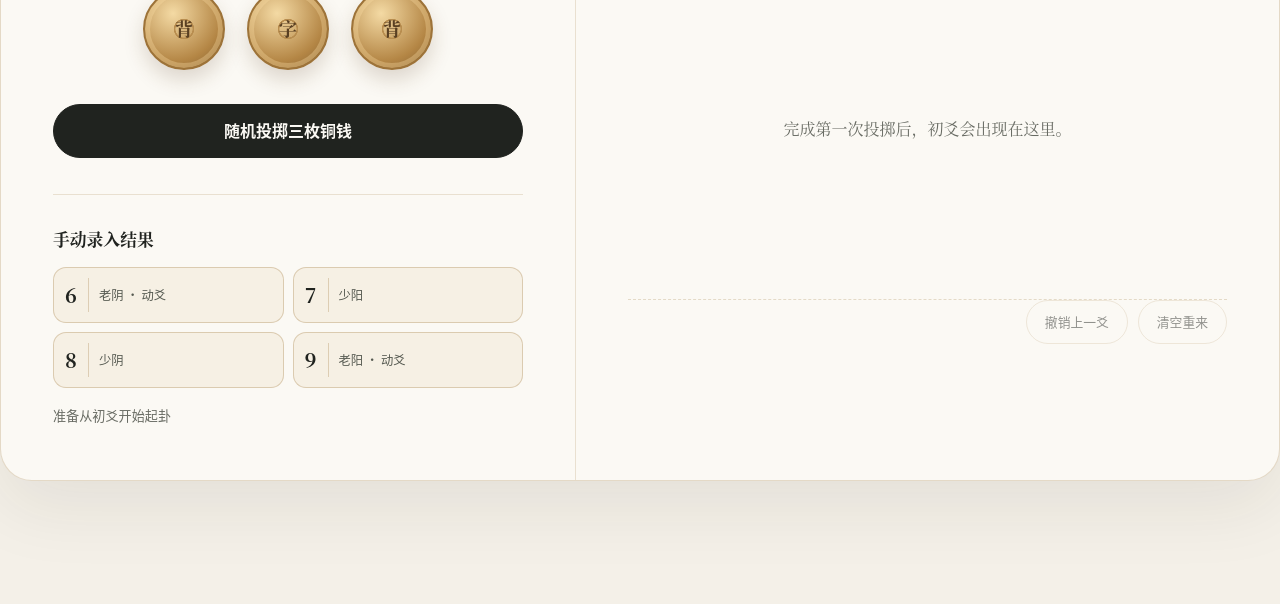
Test: CastingExperience › records six manual lines from bottom to top and completes in the same order
(page scrolled)
Click the button with aria-label "老阳 9". click: (408, 360)
box: [292, 332, 523, 388]
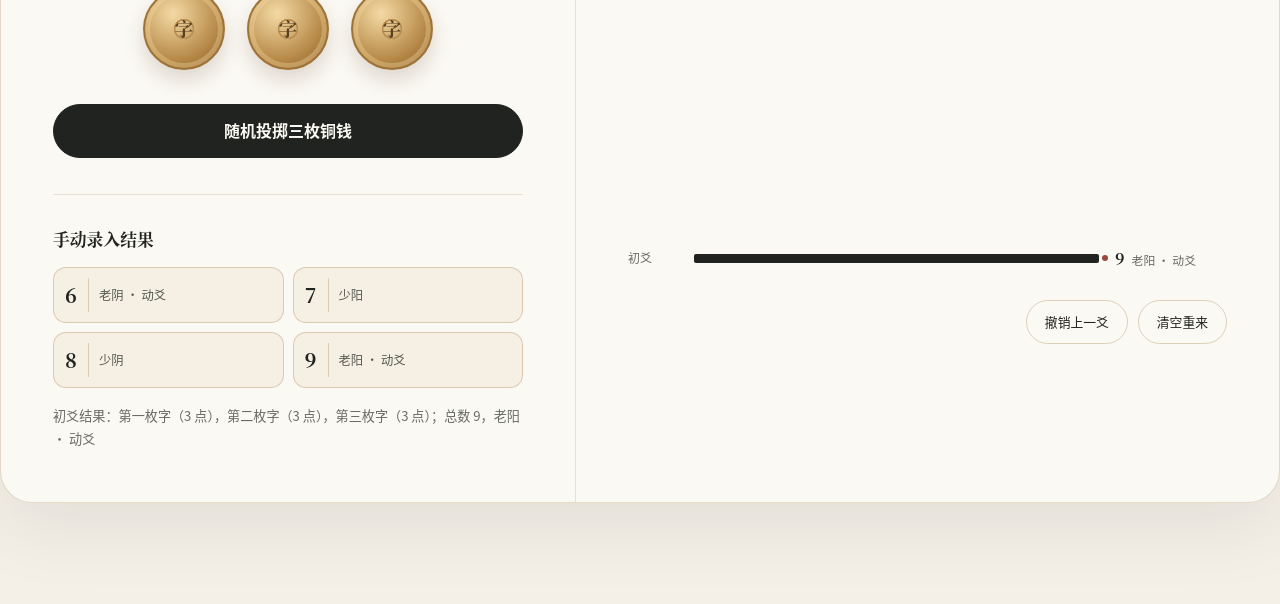
Result: the list item "初爻" is shown at [628, 249, 652, 266]
Result: the text "老阳 · 动爻" is shown at [1132, 251, 1196, 268]
Click the button "少阳 7". click: (408, 295)
box: [292, 267, 523, 323]
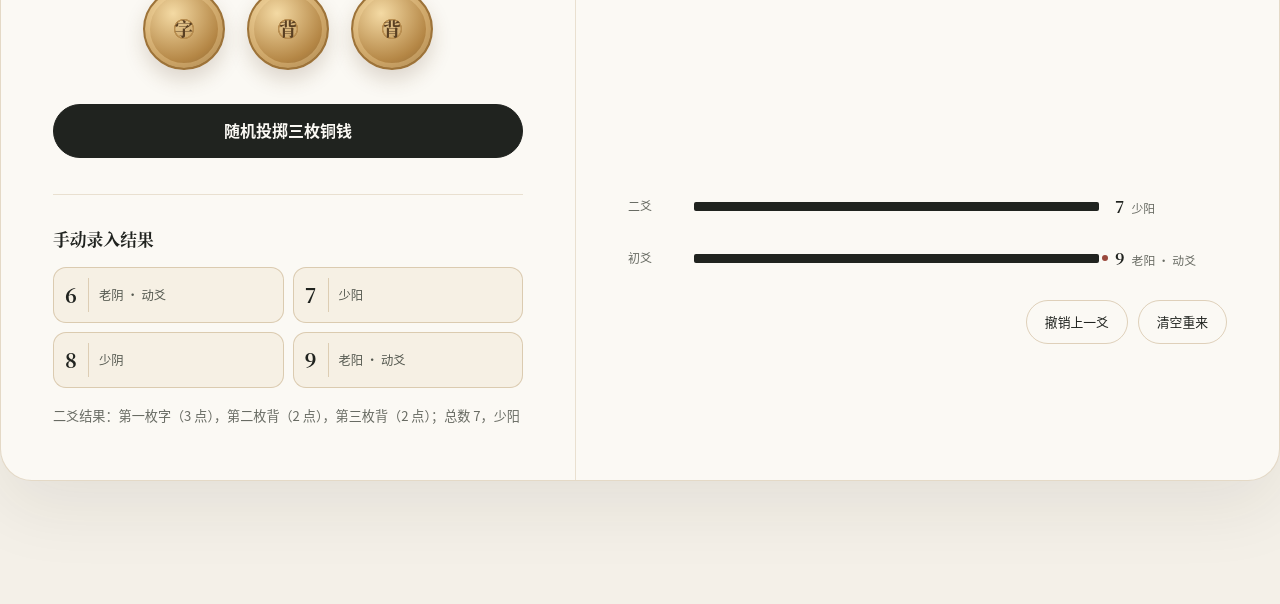
Click the button "少阳 7". click: (408, 295)
box: [292, 267, 523, 323]
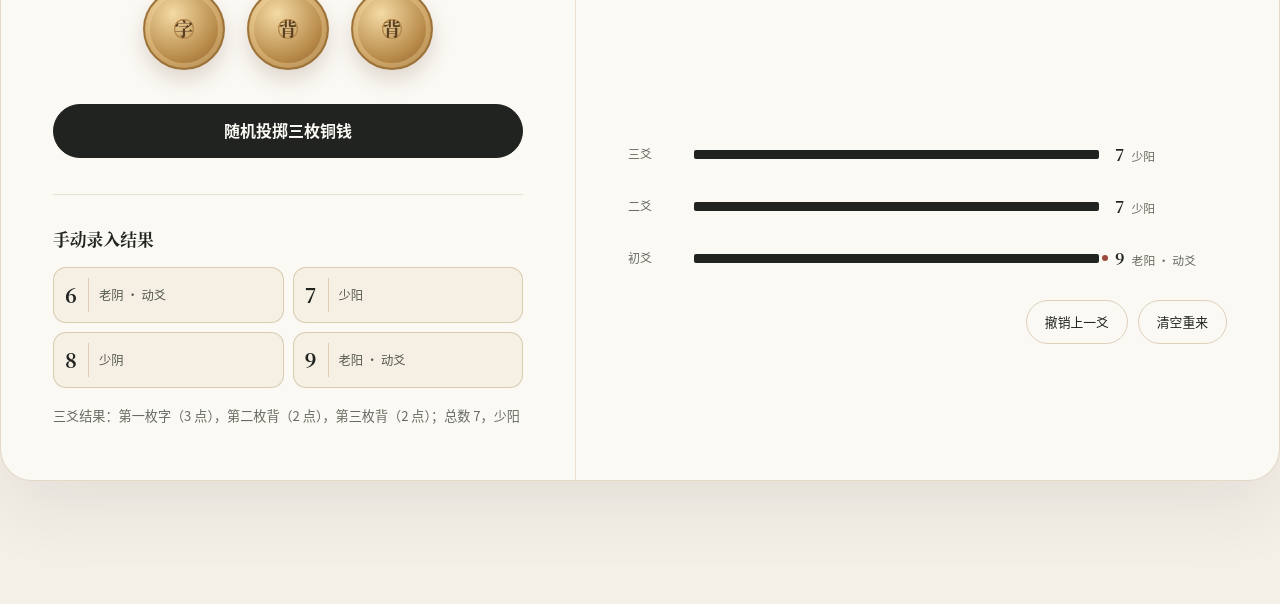
Click the button "少阳 7". click: (408, 295)
box: [292, 267, 523, 323]
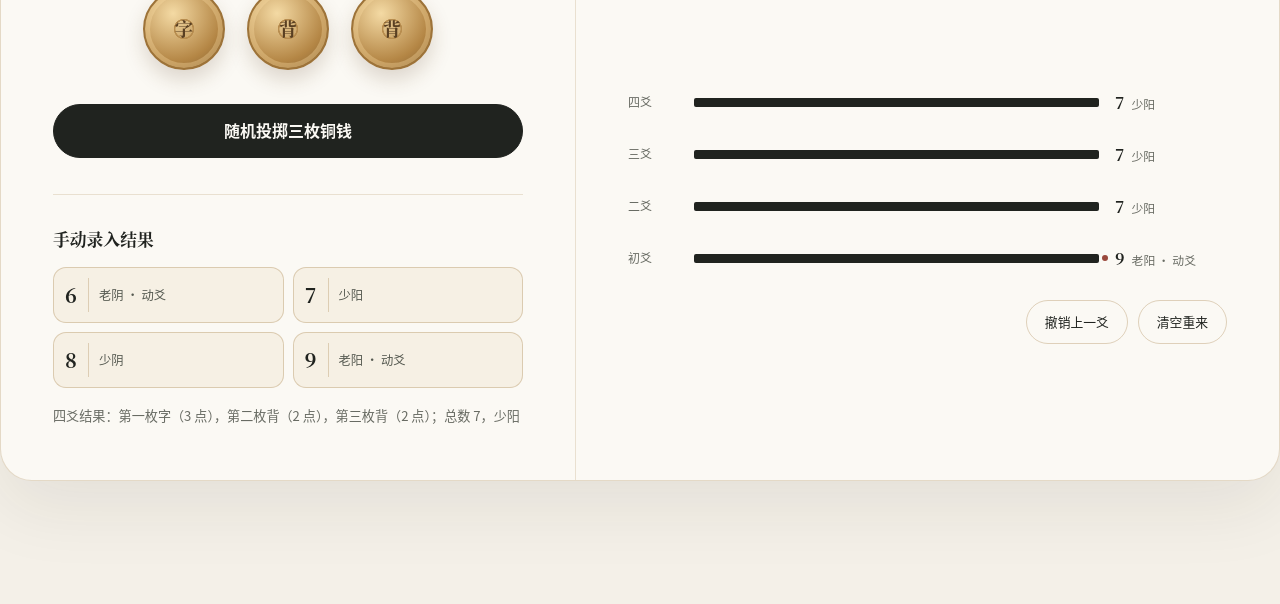
Click the button "少阳 7". click: (408, 295)
box: [292, 267, 523, 323]
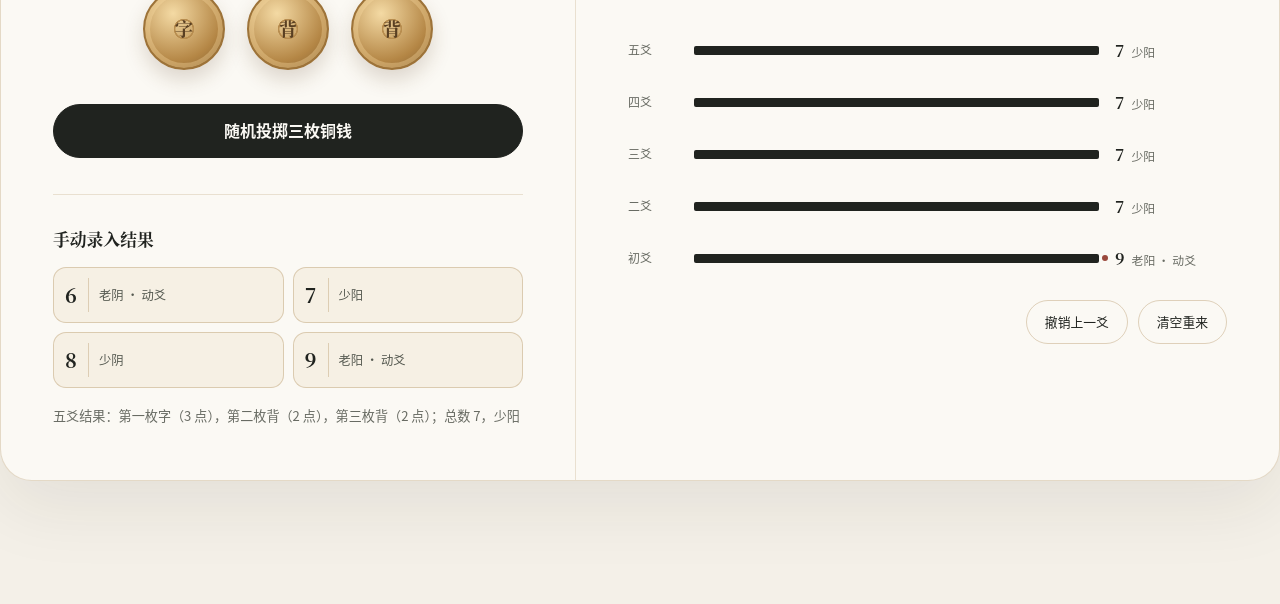
Click the button "少阳 7". click: (408, 295)
box: [292, 267, 523, 323]
(page scrolled)
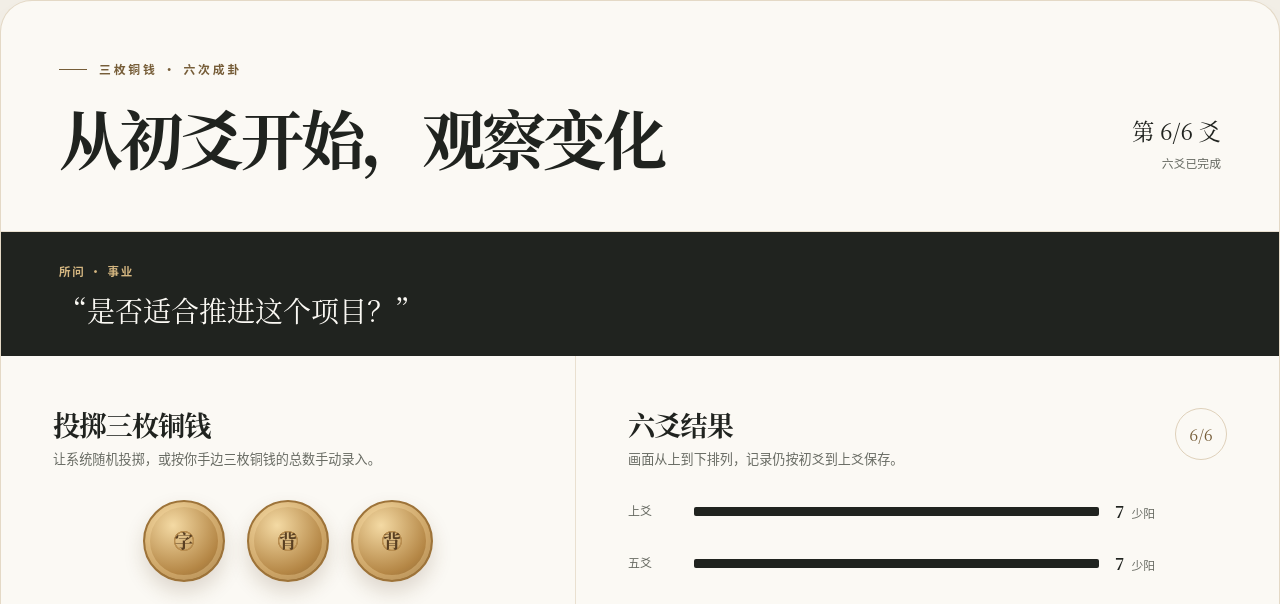
Result: the text "第 6/6 爻" is shown at [1132, 111, 1221, 149]
Result: the text "六爻已完成" is shown at [1162, 153, 1221, 173]
